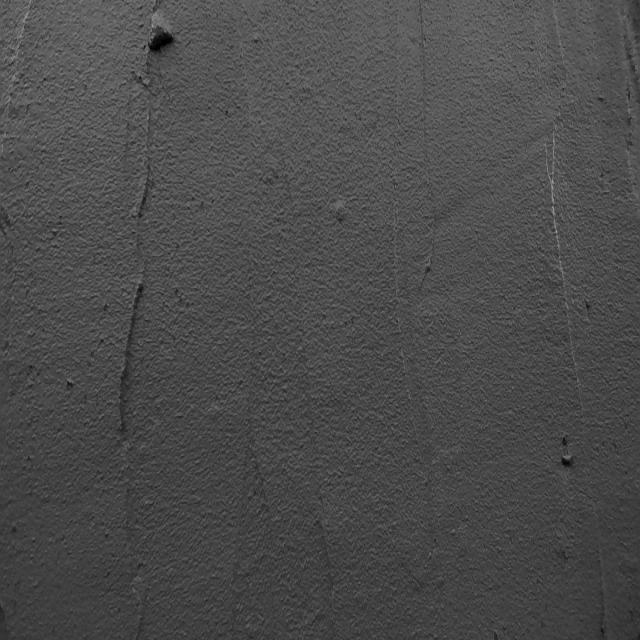trowels marks: (105, 0, 163, 453)
